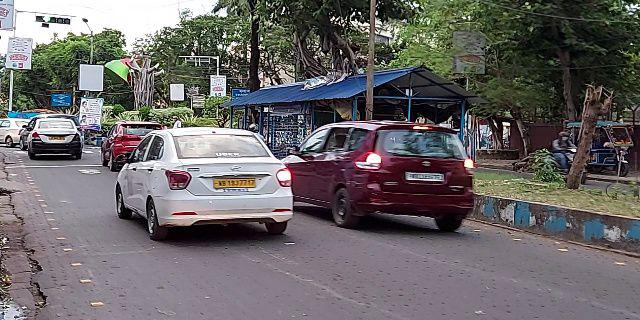Car: (274, 115, 485, 230), (111, 129, 300, 242), (99, 120, 162, 172), (24, 117, 87, 162)
